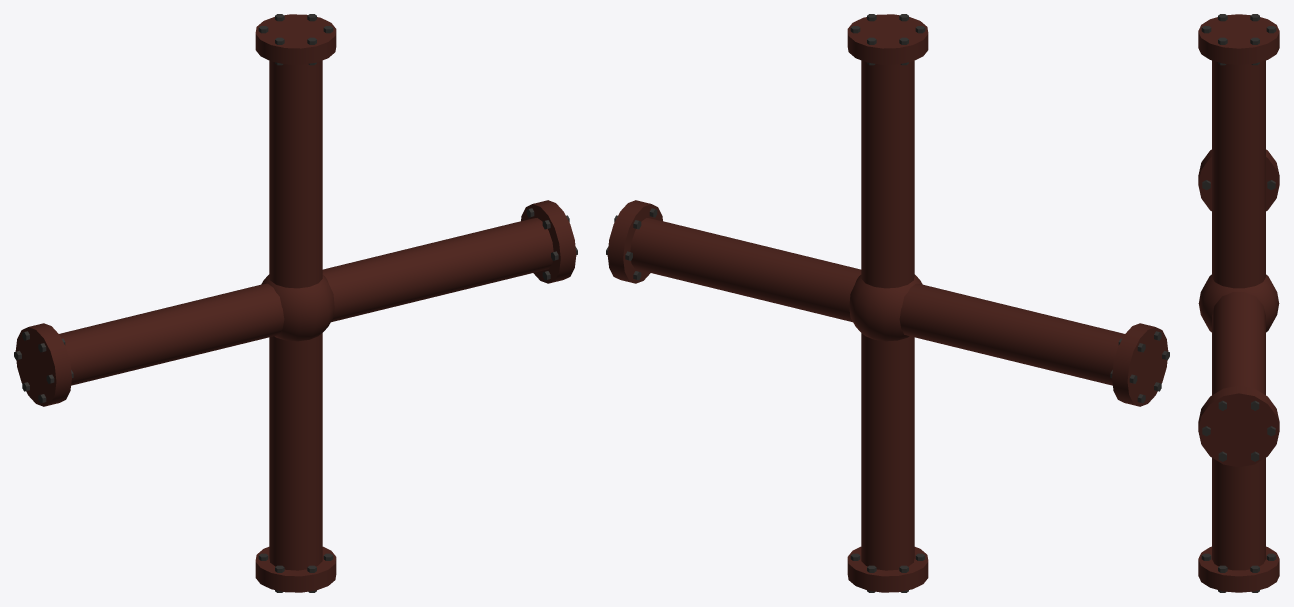
Rendered from PipeCross.fbx.
3 renders of one model, left to right at view 1: azimuth 30°, elevation 25°; view 2: azimuth 150°, elevation 25°; view 3: azimuth 270°, elevation 25°, orthographic.
Parts seen in each view (by area): view 1: PipeCross_Pipe, PipeCross_Bolts; view 2: PipeCross_Pipe, PipeCross_Bolts; view 3: PipeCross_Pipe, PipeCross_Bolts.
Boxes of the visible parts, left/top/right/bottom form: PipeCross_Pipe: left=15, top=14, right=576, bottom=592; PipeCross_Bolts: left=14, top=14, right=577, bottom=592; PipeCross_Pipe: left=607, top=14, right=1168, bottom=592; PipeCross_Bolts: left=606, top=14, right=1169, bottom=592; PipeCross_Pipe: left=1198, top=14, right=1279, bottom=592; PipeCross_Bolts: left=1201, top=14, right=1276, bottom=592.
Bounding box in the file's own units: 1.01 × 1.01 × 0.136.
